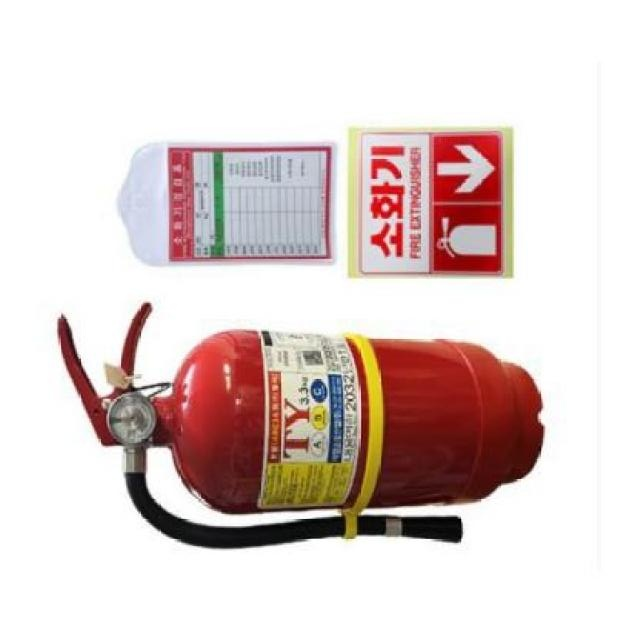fire extinguisher: (57, 300, 545, 551)
